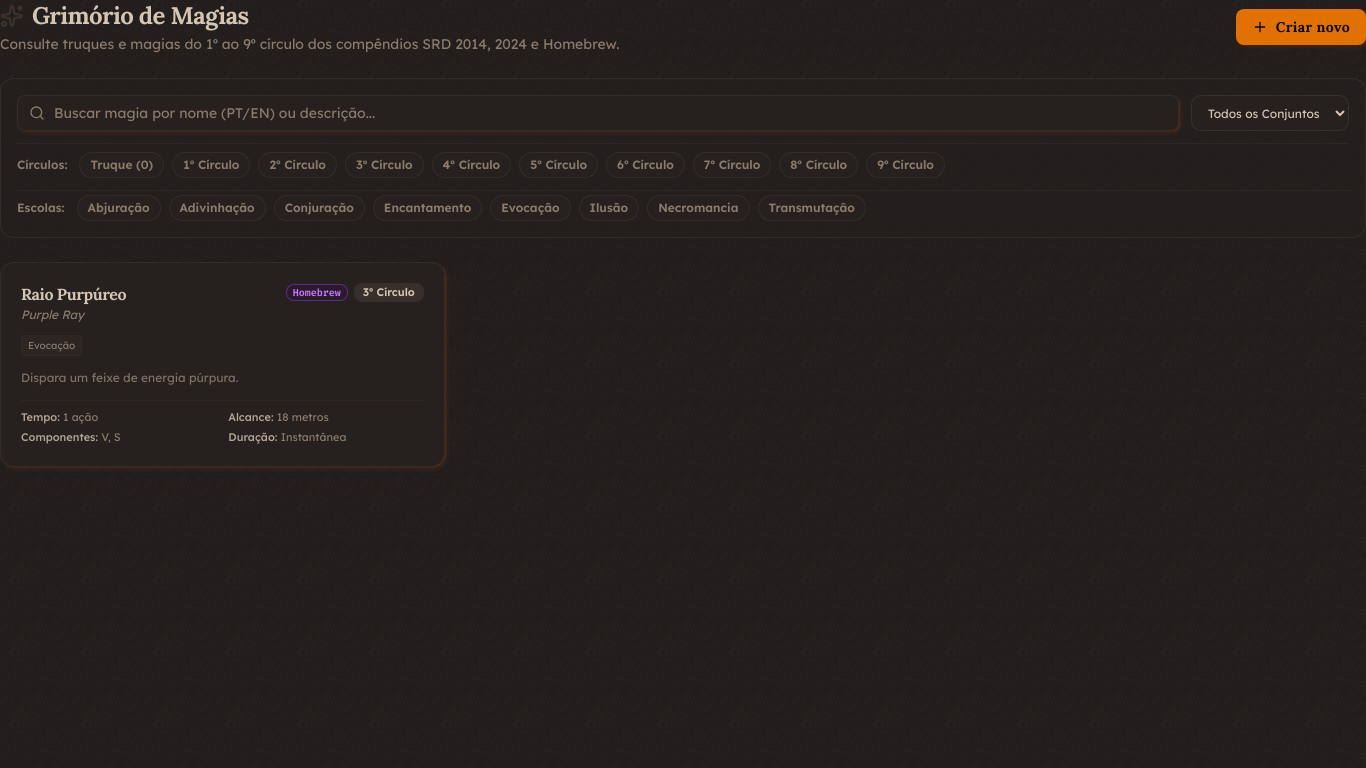
it: Homebrew UI & Role Gating Integration Tests › opens CreateHomebrewDialog when DM clicks "Criar novo" and submits successfully
The image size is (1366, 768).
Later steps or results of the test are not shown.
Click the button with test id "create-homebrew-button" at (1301, 27), box top-left (1236, 9), bottom-right (1365, 45)
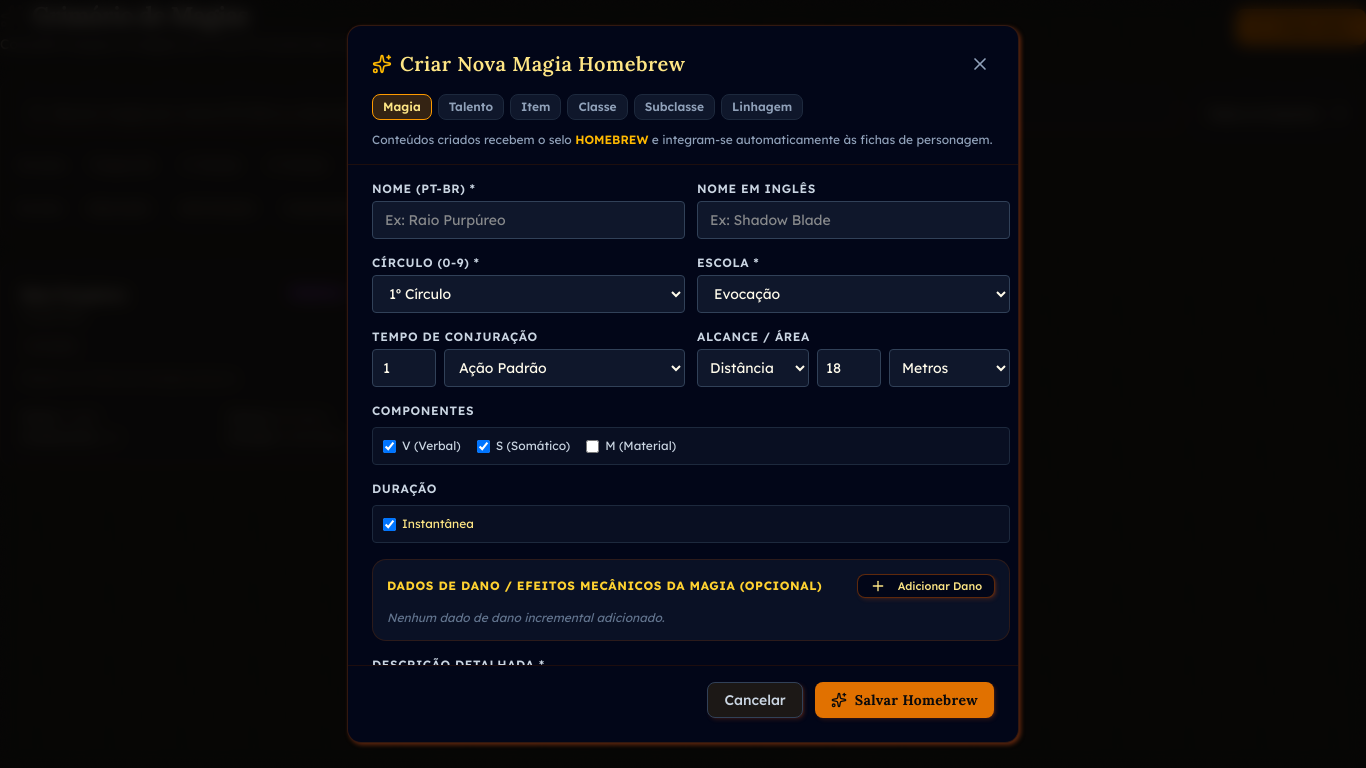
Result: the text "Criar Nova Magia Homebrew" is shown at top-left (400, 50), bottom-right (686, 78)
